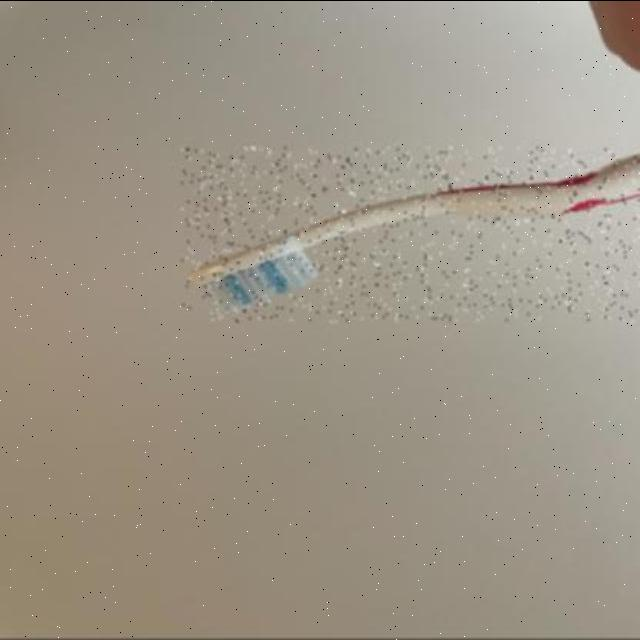toothbrush: (182, 148, 640, 322)
